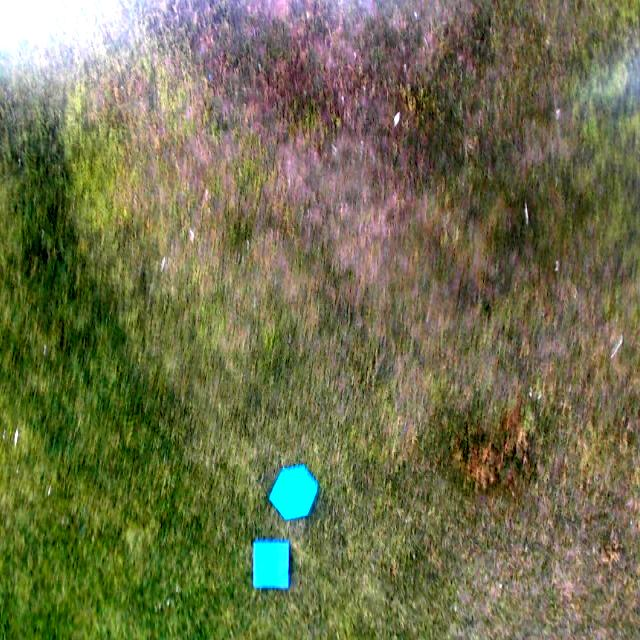blue_hexagon: (268, 466, 319, 521)
blue_square: (253, 540, 290, 588)
